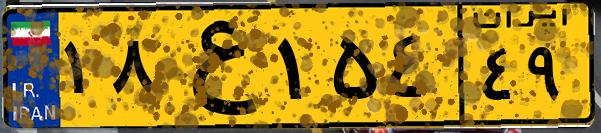1: (270, 28, 330, 110), (57, 26, 110, 100)
4: (385, 28, 445, 110), (475, 38, 525, 113)
5: (330, 28, 385, 110)
8: (110, 28, 158, 98)
9: (525, 38, 570, 115)
ع: (158, 12, 270, 120)
